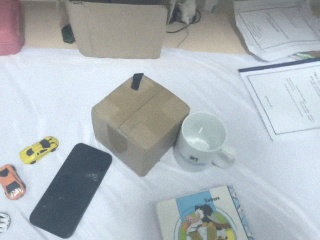book: (152, 183, 258, 240)
box: (90, 73, 189, 177), (61, 1, 170, 60)
cup: (174, 110, 238, 170)
phone: (27, 142, 115, 239)
toy_car: (19, 135, 58, 165), (1, 163, 27, 201), (1, 212, 11, 236)
